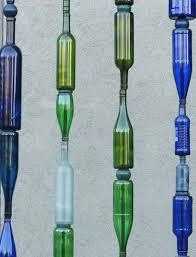Glass bottle: (0, 25, 29, 130), (108, 89, 144, 169), (50, 1, 80, 90), (48, 146, 80, 221), (105, 32, 142, 84), (160, 34, 192, 94), (106, 178, 135, 242), (165, 194, 196, 252), (0, 130, 19, 213), (166, 97, 194, 153), (55, 88, 77, 145), (166, 157, 194, 192), (48, 224, 78, 244), (0, 219, 21, 244)
